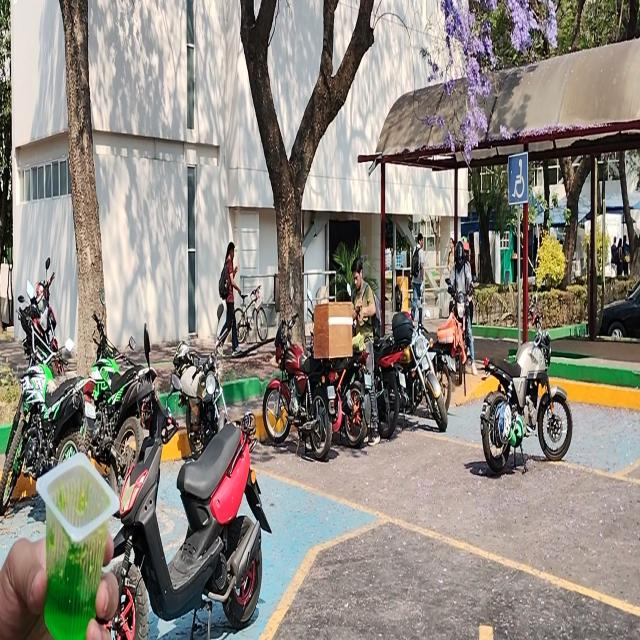adult: (352, 255, 379, 452), (448, 236, 475, 372), (215, 238, 240, 357), (410, 232, 424, 328)
